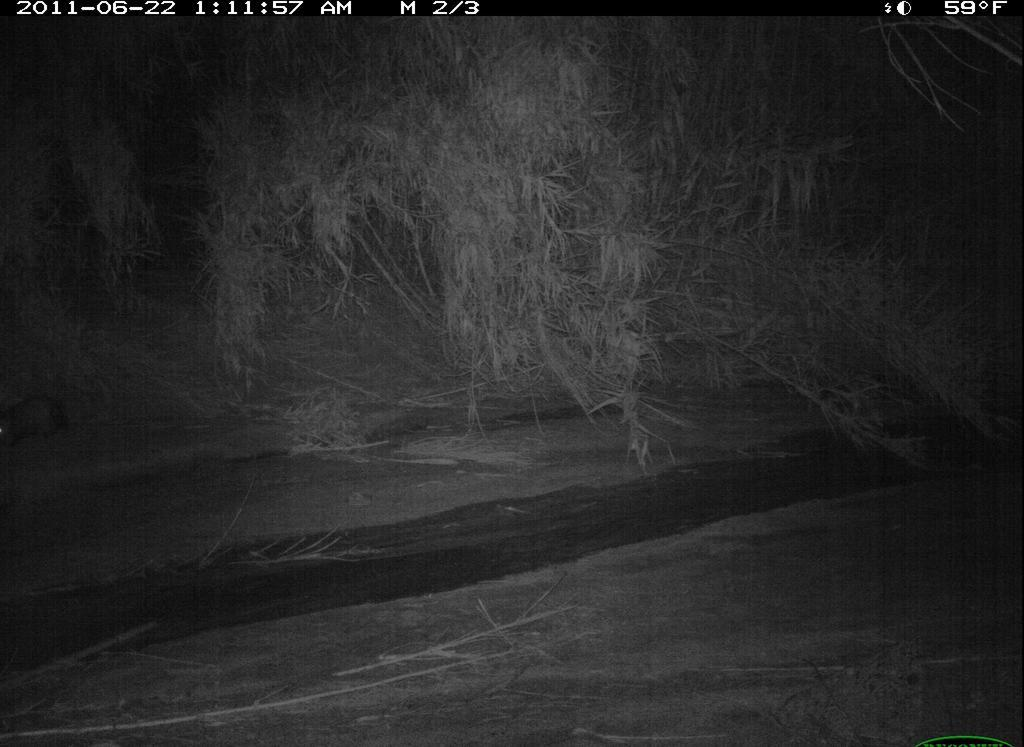opossum: (1, 387, 82, 451)
